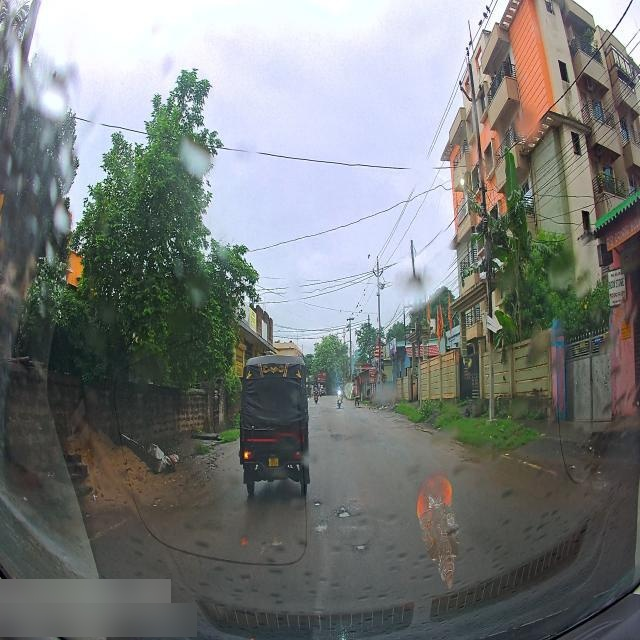pothole: (330, 498, 358, 528), (355, 534, 372, 558), (312, 494, 326, 516), (316, 526, 329, 541)
